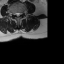CCS_normal: (16, 11, 18, 18)
LFS_stenosis: (20, 10, 22, 16)
LLS_normal: (18, 11, 20, 17)
RFS_stenosis: (13, 11, 15, 16)
RLS_stenosis: (15, 11, 16, 17)
